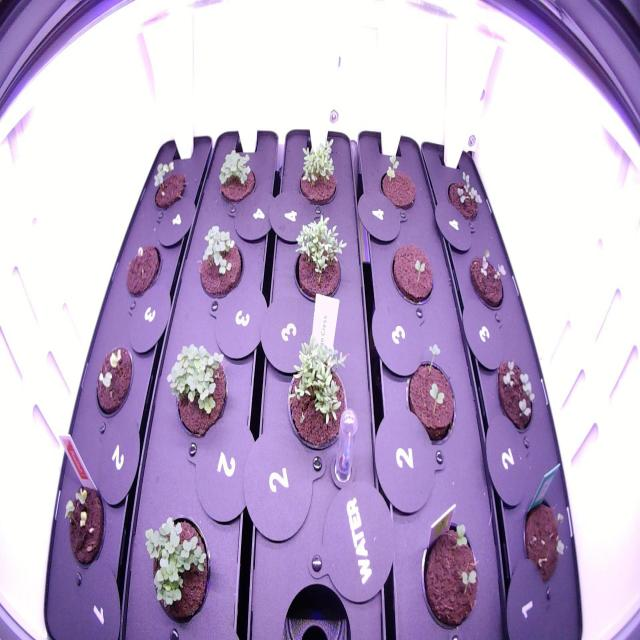germination: (272, 329, 358, 461), (415, 498, 486, 634), (136, 508, 216, 628), (162, 335, 232, 443), (286, 211, 350, 316), (401, 338, 460, 450), (515, 483, 570, 596), (57, 472, 109, 575), (491, 342, 542, 443), (190, 219, 245, 301), (286, 133, 344, 210), (383, 228, 437, 310), (208, 141, 264, 214), (91, 335, 136, 424), (464, 239, 511, 323), (118, 233, 166, 309), (374, 148, 420, 217), (443, 164, 488, 229), (146, 154, 189, 216)
